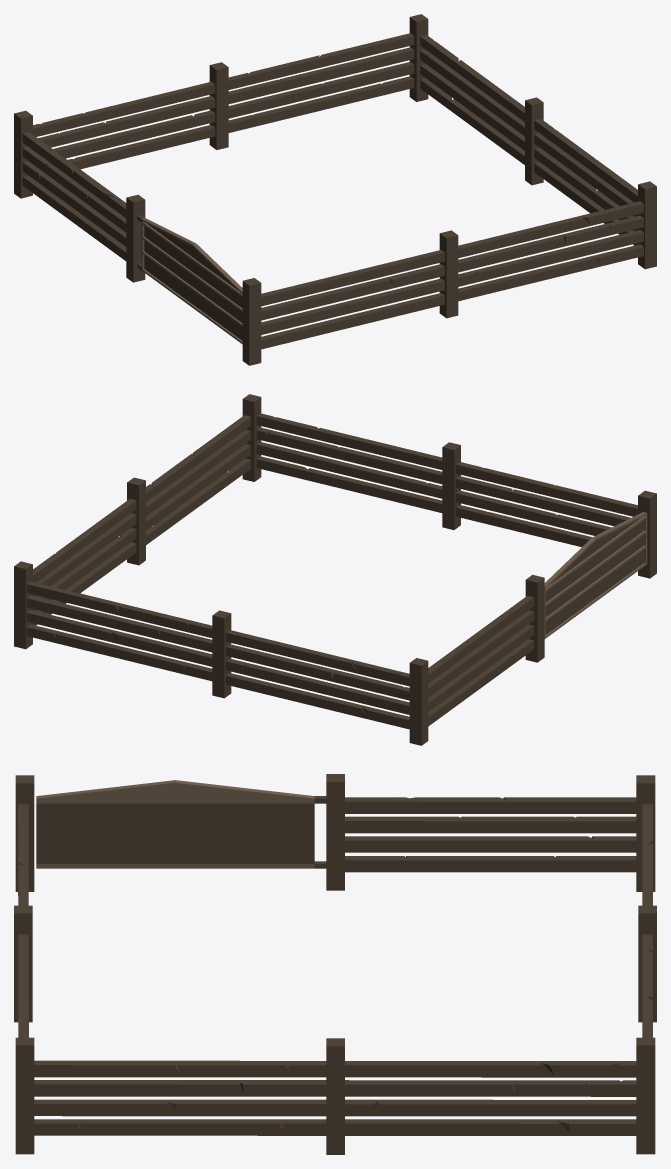
The model's file is animal_fence.fbx.
3 renders of one model, top to bottom at view 1: azimuth 30°, elevation 25°; view 2: azimuth 150°, elevation 25°; view 3: azimuth 270°, elevation 25°, orthographic. The views are drawn at different scales.
Parts seen in each view (by area): view 1: animal_fence; view 2: animal_fence; view 3: animal_fence.
Part boxes in pixels (x1,y1,x2,y2): animal_fence: (14,14,656,365); animal_fence: (14,394,656,745); animal_fence: (14,774,656,1154).
Bounding box in the file's own units: 7.65 × 7.64 × 1.43.
